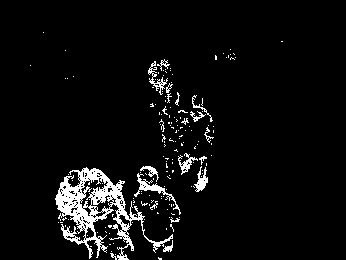person: (131, 165, 181, 260), (86, 169, 132, 257), (56, 169, 98, 258), (184, 94, 213, 191), (163, 93, 183, 173), (146, 57, 181, 99)
